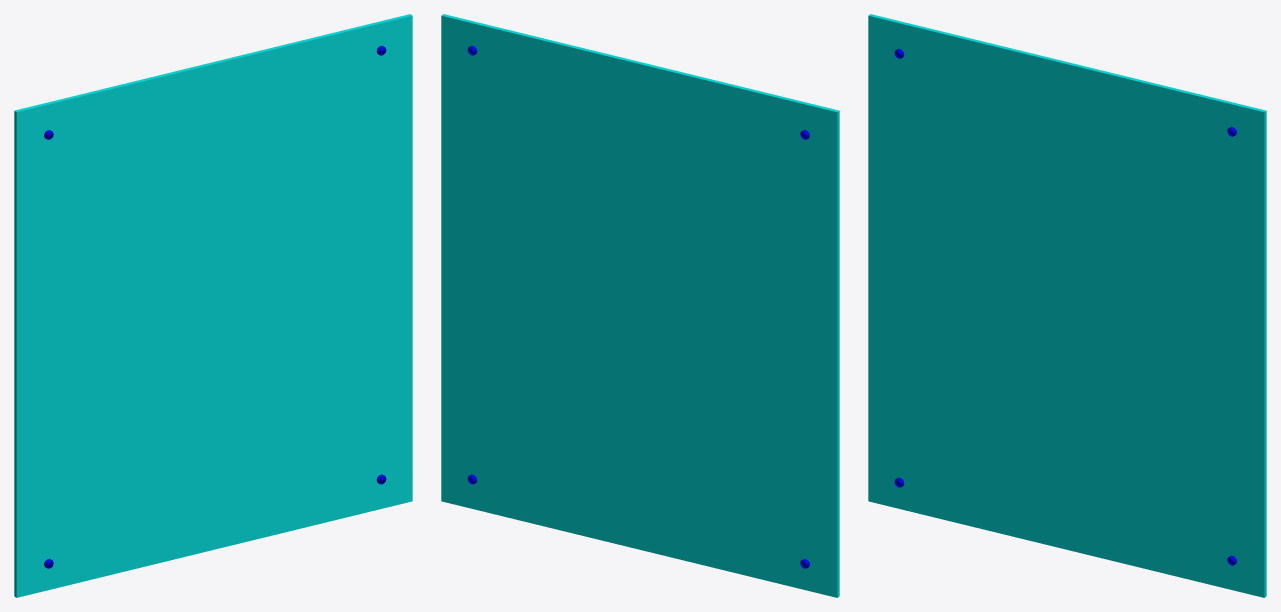
The model's file is cuadro_08_low.fbx.
The picture shows the model from 3 angles, left to right: view 1: azimuth 30°, elevation 25°; view 2: azimuth 150°, elevation 25°; view 3: azimuth 330°, elevation 25°; orthographic projection.
Visible parts, largest first — view 1: pCube5; view 2: pCube5; view 3: pCube5.
Part boxes in pixels (<box>): pCube5: <box>14,14,412,597</box>; pCube5: <box>441,14,839,597</box>; pCube5: <box>868,14,1266,597</box>.
Size of the model in its own units: 99 by 116 by 2.
